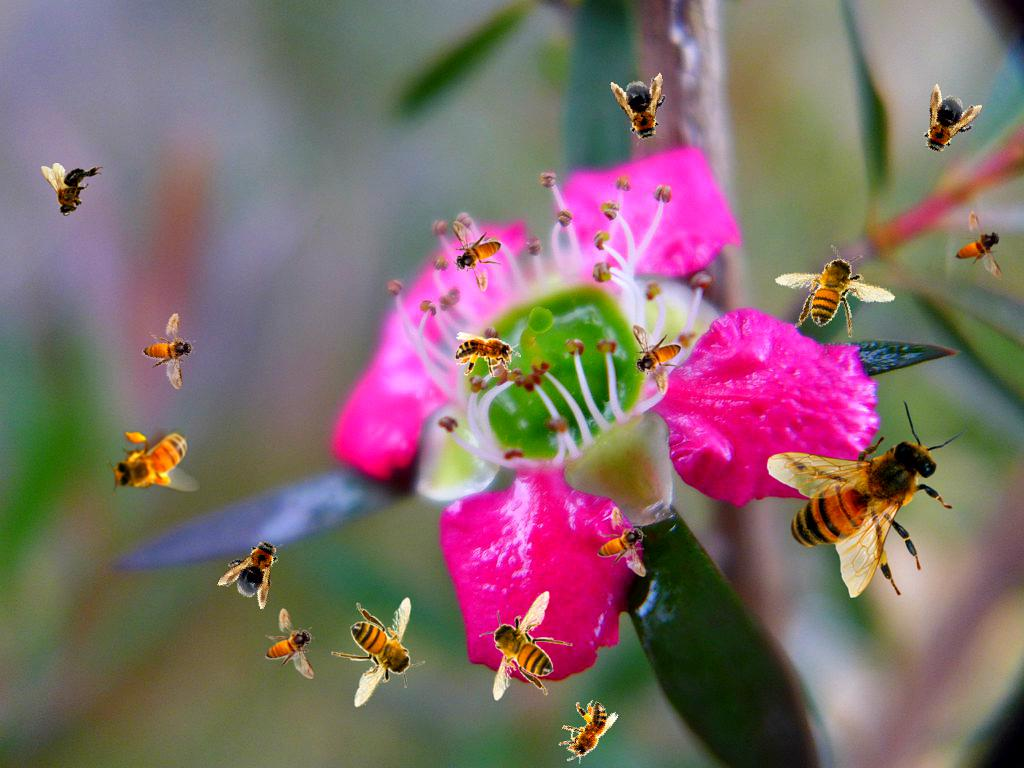Bee: (766, 399, 970, 598), (769, 231, 904, 355), (479, 590, 573, 701), (331, 597, 425, 708), (216, 525, 294, 611), (908, 83, 984, 167), (107, 428, 200, 496), (133, 306, 207, 391), (549, 692, 621, 768), (610, 71, 676, 149), (954, 209, 1004, 280), (632, 324, 682, 395), (597, 506, 647, 577), (452, 221, 502, 292), (265, 608, 315, 679), (41, 163, 103, 216), (454, 331, 522, 378)
